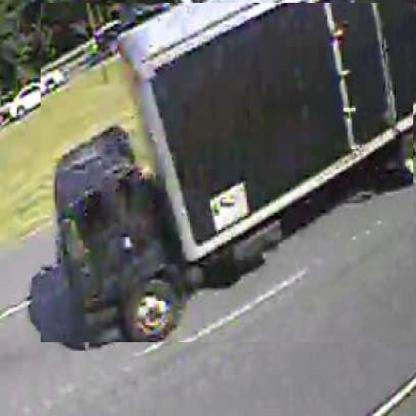truck: (41, 4, 414, 345)
